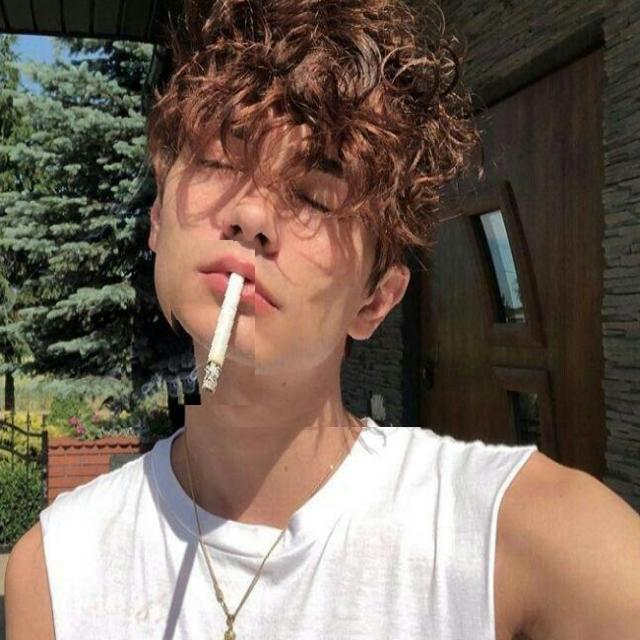cigarette: (165, 240, 255, 405)
